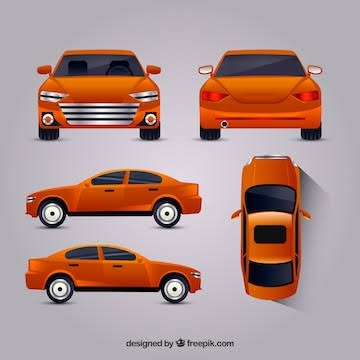car: (194, 46, 326, 136), (33, 52, 163, 134), (33, 51, 164, 131), (24, 242, 201, 301), (34, 169, 201, 225)
